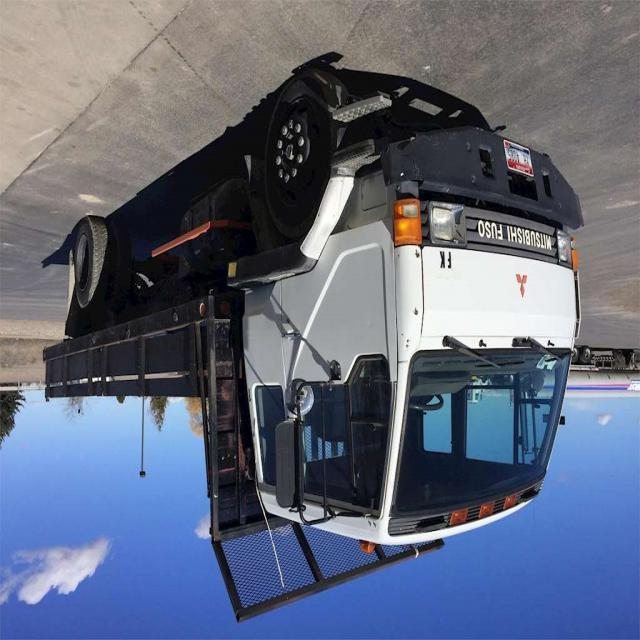truck: (44, 69, 584, 625)
